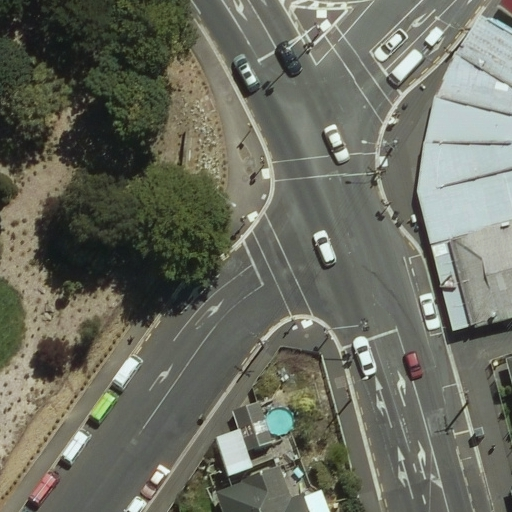DT: (356, 129, 403, 161), (240, 325, 274, 360), (450, 383, 478, 417)
